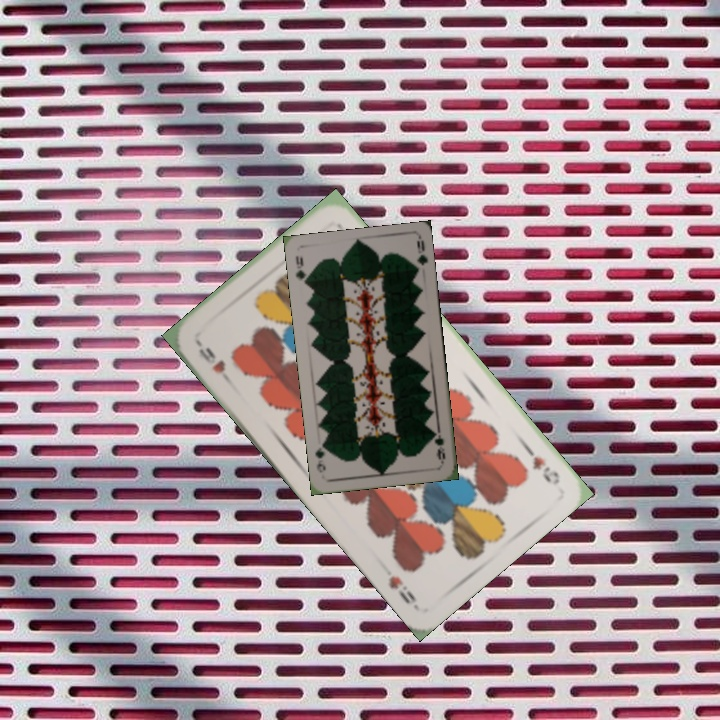G9: (429, 424, 448, 465), (291, 252, 311, 289)
H9: (520, 440, 563, 488), (193, 337, 228, 376)
